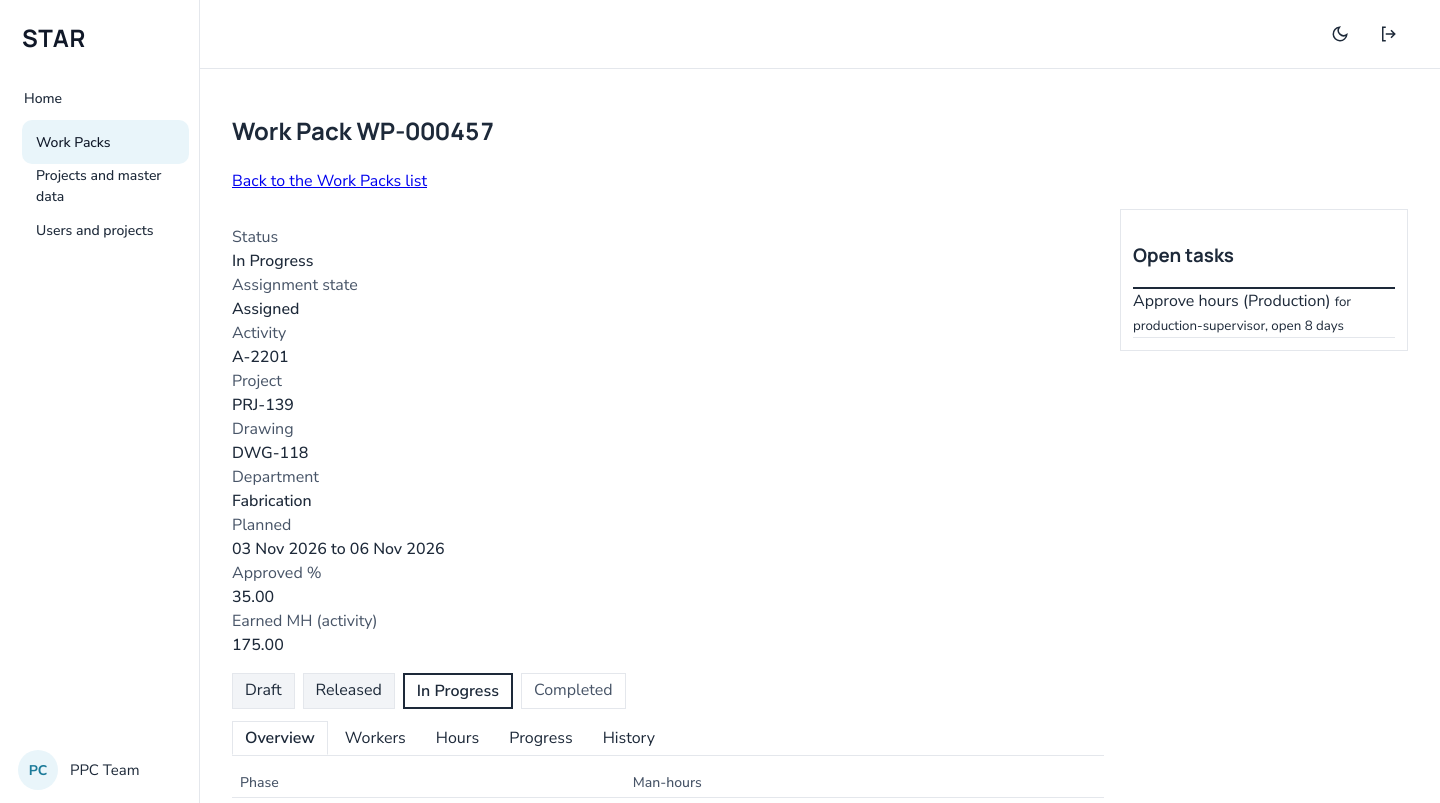
WorkPackDetailPage › BPA73_workersTabShowsKeptWorker
Expected: the element showing "Overview Workers Hours Progress History" is shown, [232,721,1104,756]
Click the tab "Workers" at (375, 738), box [332,721,419,755]
(page scrolled)
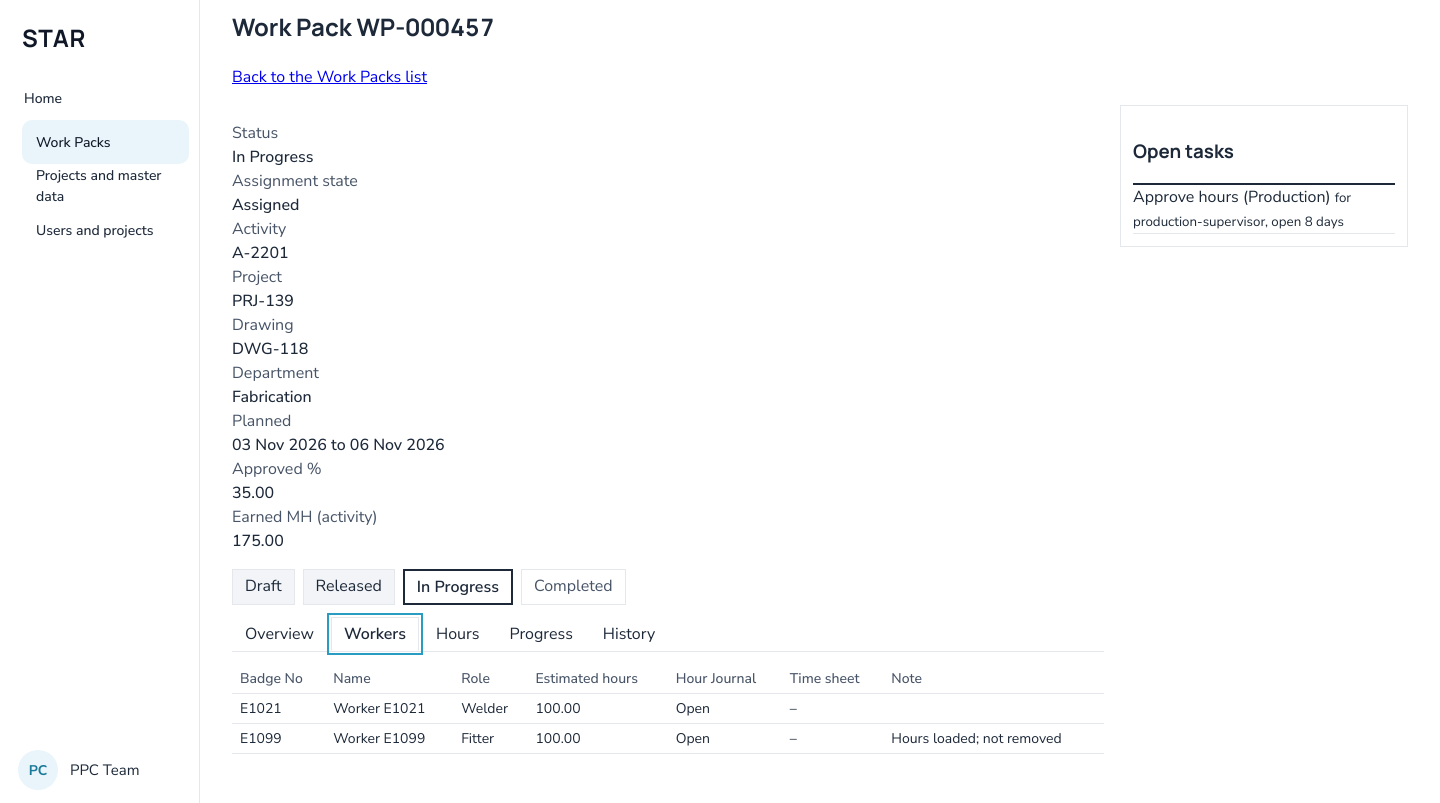
Expected: the row "E1021 Worker E1021 Welder 100.00 Open –" does not show "Hours loaded; not removed", [232,693,1104,723]
Result: the row "E1099" shows "Hours loaded; not removed" at [891,729,1062,748]
